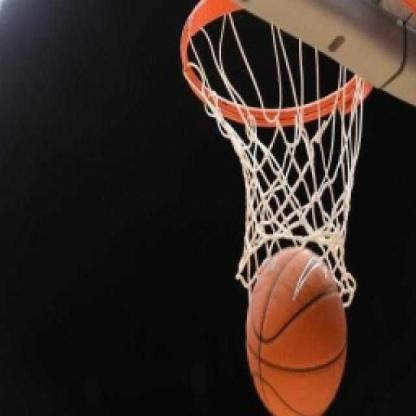basketball: (244, 242, 354, 416)
